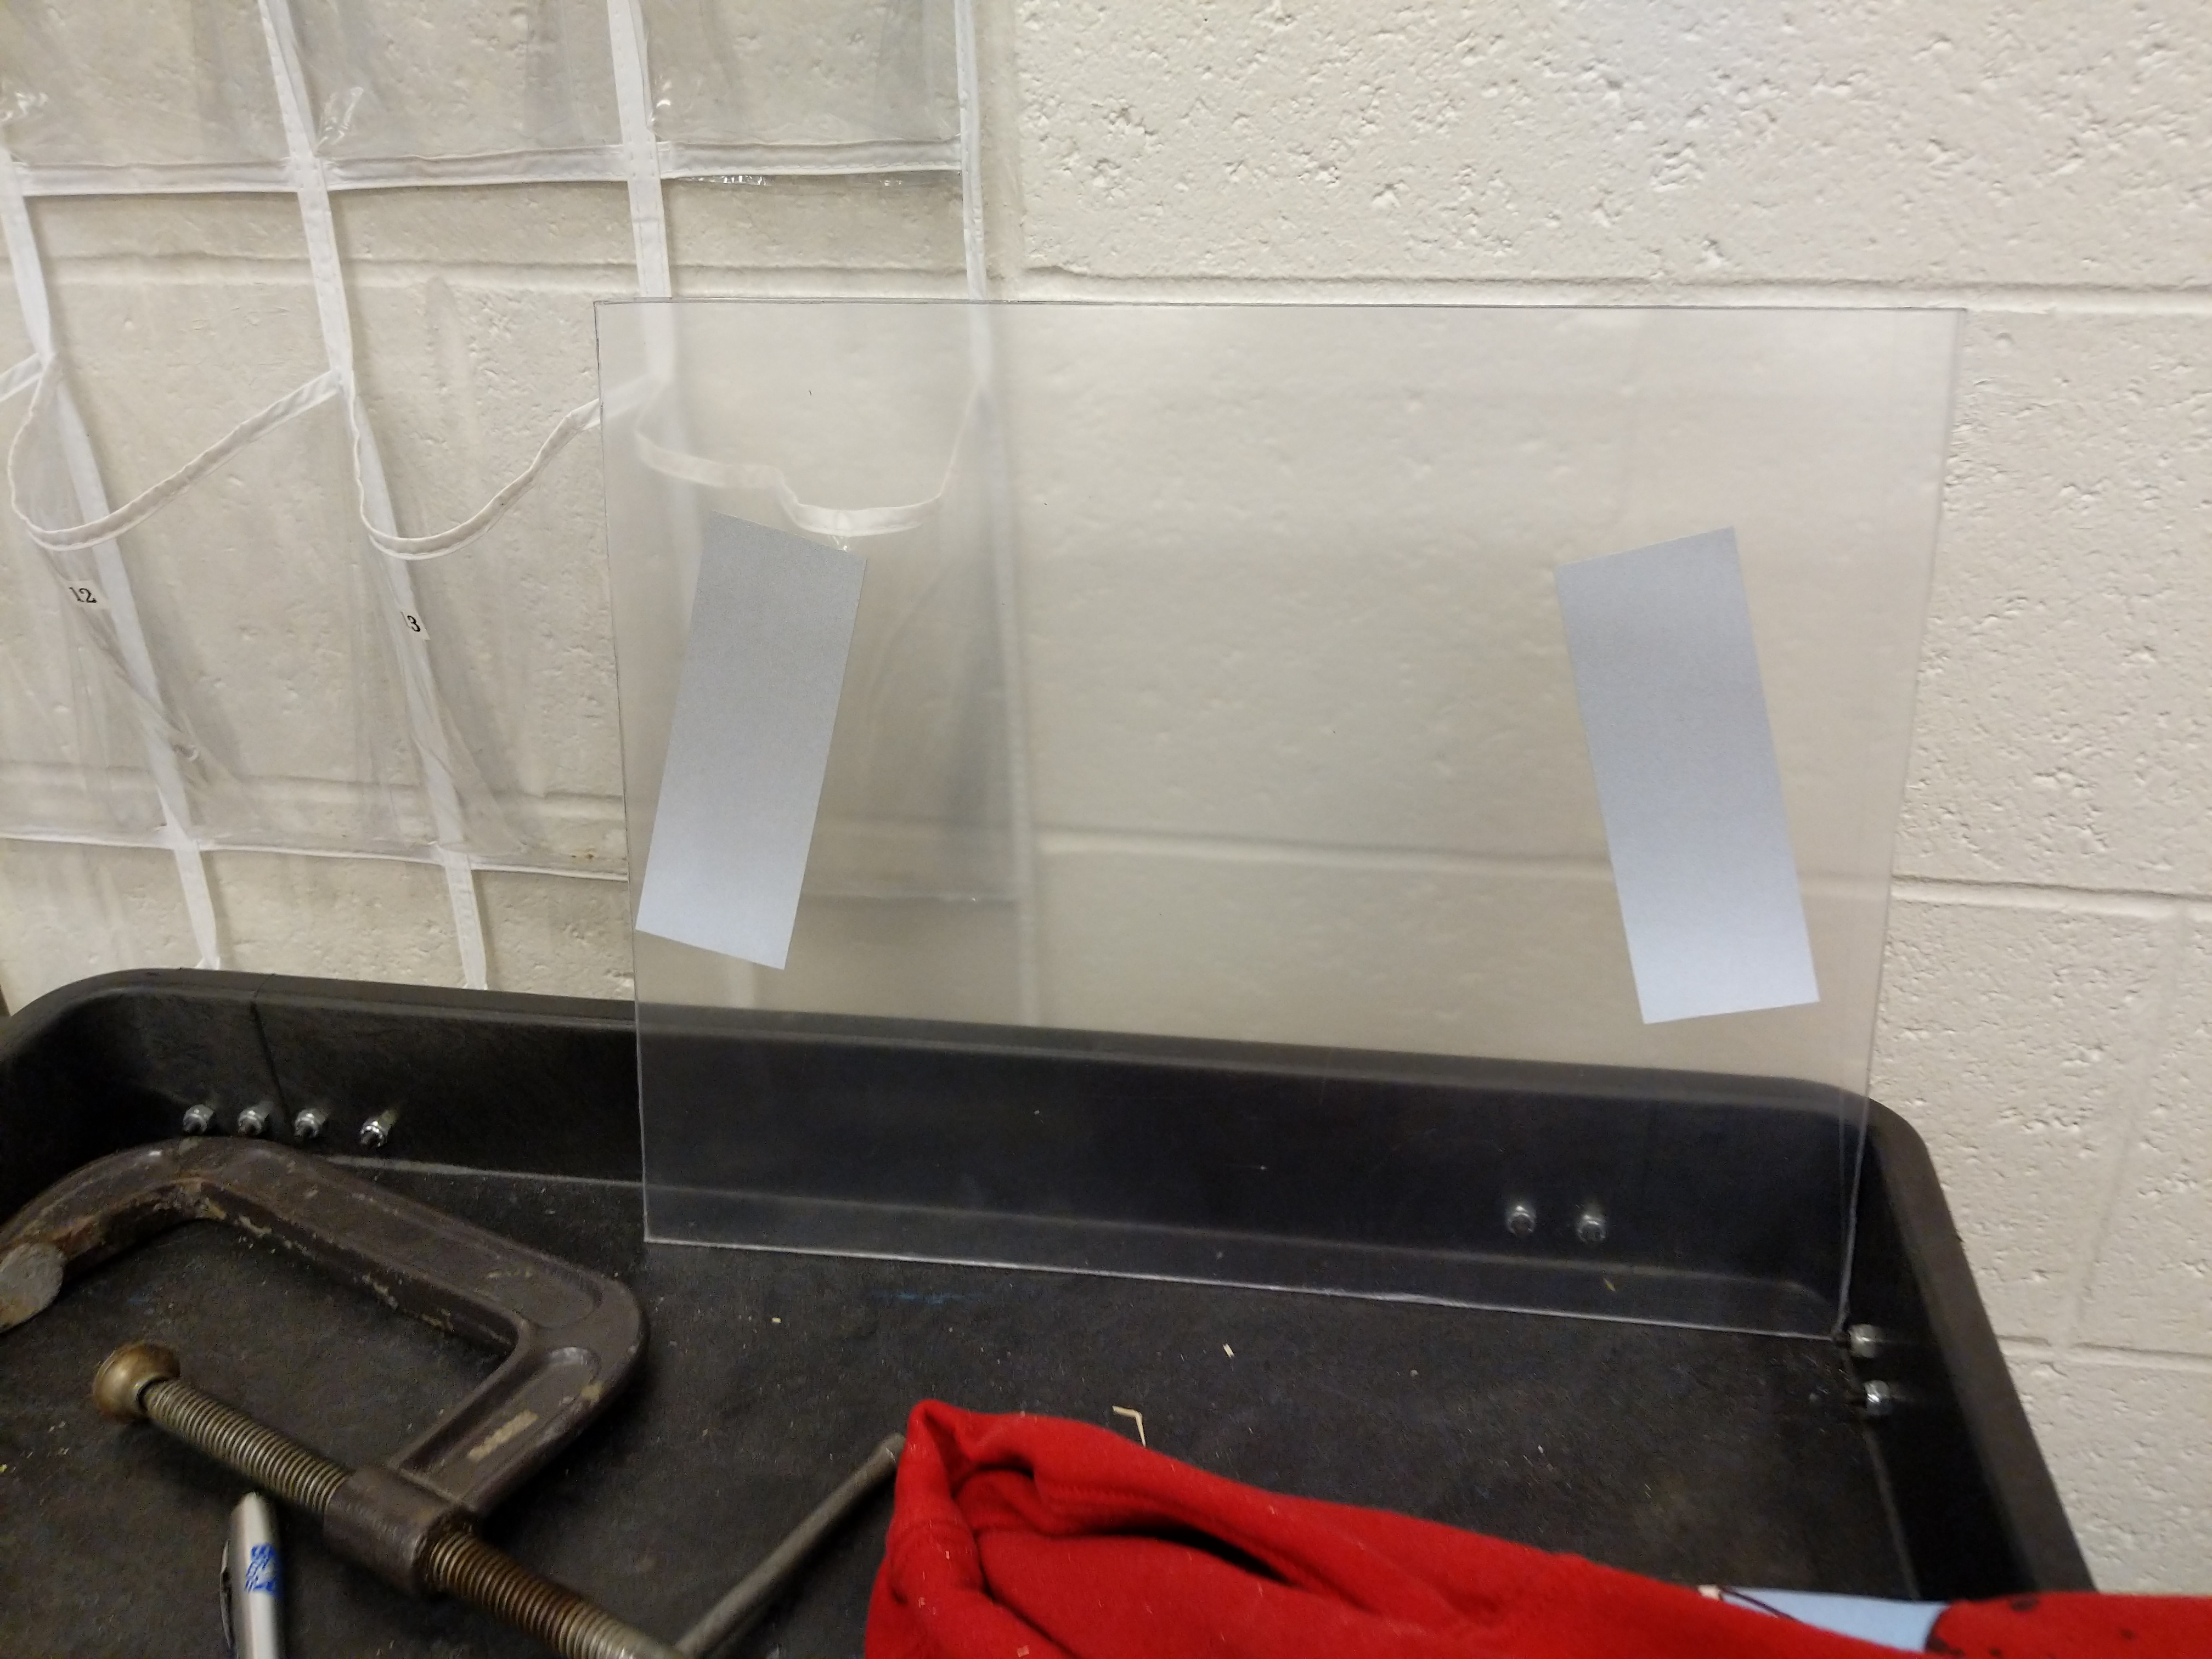vision_target: (610, 493, 1839, 1042)
